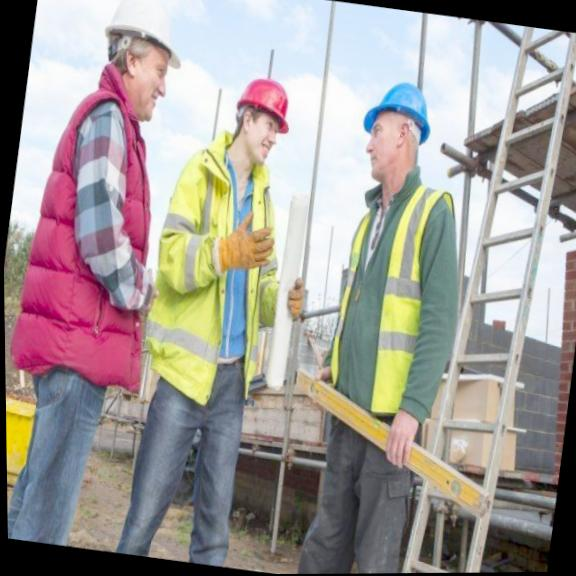no_safety_vest: (12, 107, 177, 392)
safety_vest: (142, 134, 290, 406)
